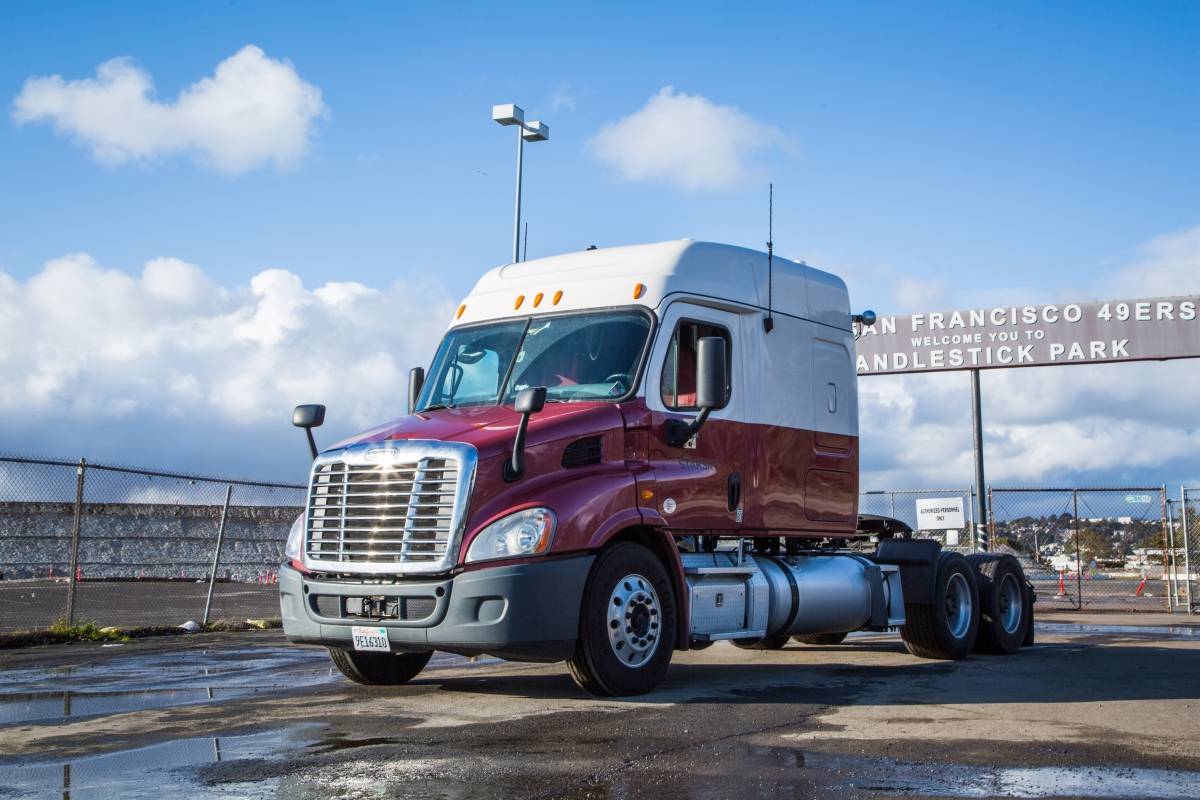Truck: (283, 233, 1038, 692)
